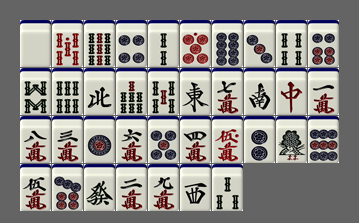0m: (212, 116, 243, 163)
0p: (180, 20, 211, 67)
0s: (52, 20, 83, 67)
1m: (308, 68, 339, 115)
1p: (84, 116, 115, 163)
1s: (276, 116, 307, 163)
1z: (180, 68, 211, 115)
2m: (116, 164, 147, 211)
2p: (244, 116, 275, 163)
2s: (148, 20, 179, 67)
2z: (244, 68, 275, 115)
3m: (52, 116, 83, 163)
3p: (244, 20, 275, 67)
3s: (212, 164, 243, 211)
3z: (180, 164, 211, 211)
4m: (180, 116, 211, 163)
4p: (116, 20, 147, 67)
4s: (276, 20, 307, 67)
4z: (84, 68, 115, 115)
5m: (20, 164, 51, 211)
5p: (148, 116, 179, 163)
5s: (148, 68, 179, 115)
5z: (20, 20, 51, 67)
6m: (116, 116, 147, 163)
6p: (308, 20, 339, 67)
6s: (52, 68, 83, 115)
6z: (84, 164, 115, 211)
7m: (212, 68, 243, 115)
7p: (52, 164, 83, 211)
7s: (116, 68, 147, 115)
7z: (276, 68, 307, 115)
8m: (20, 116, 51, 163)
8p: (212, 20, 243, 67)
8s: (20, 68, 51, 115)
9m: (148, 164, 179, 211)
9p: (308, 116, 339, 163)
9s: (84, 20, 115, 67)
